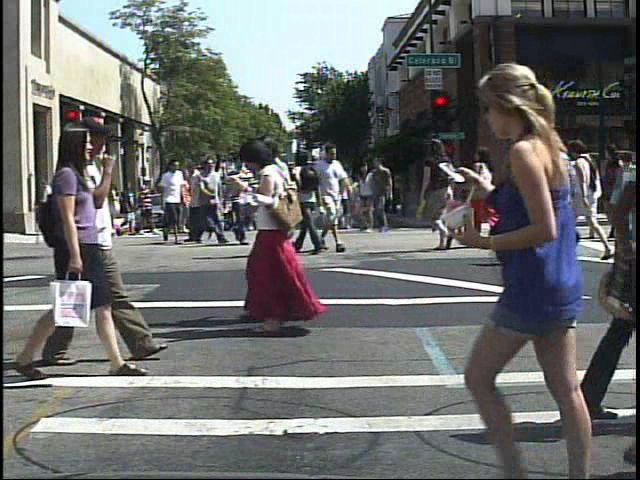person: (432, 58, 614, 480), (8, 120, 136, 380), (232, 134, 320, 333), (81, 108, 143, 371), (263, 130, 313, 332), (565, 132, 613, 285), (416, 134, 465, 266), (536, 120, 577, 269), (249, 136, 294, 263), (464, 143, 509, 256), (293, 150, 338, 261), (313, 142, 356, 252), (192, 154, 229, 249), (575, 147, 608, 244), (223, 151, 256, 247), (157, 157, 192, 244), (136, 173, 156, 242), (71, 182, 91, 232)
